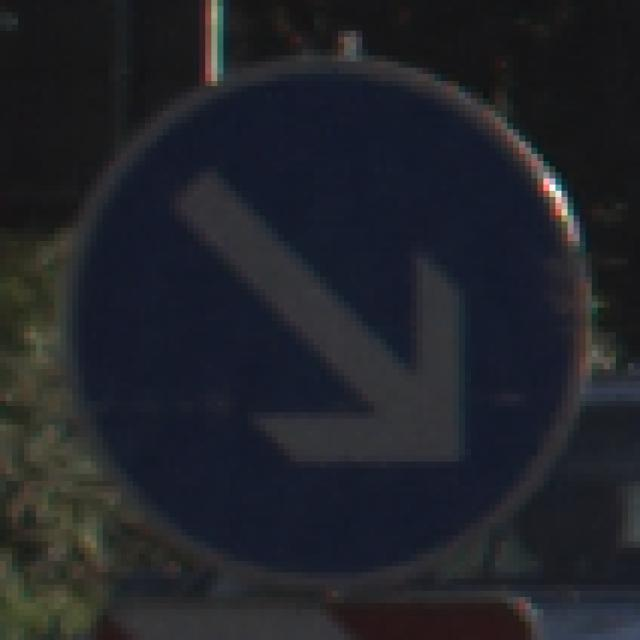compulsary keep right: (61, 70, 585, 573)
